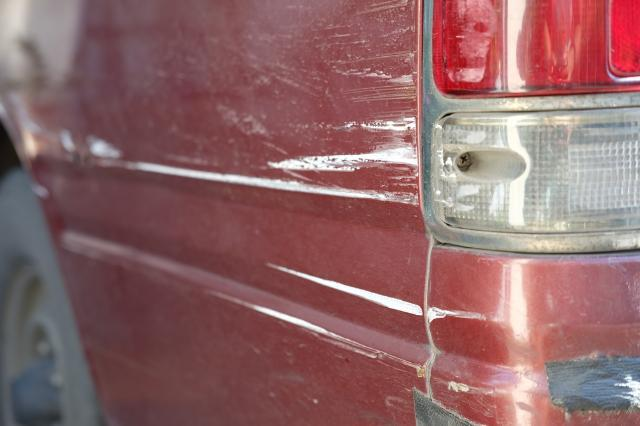scratch: (96, 0, 420, 210), (204, 289, 433, 381), (265, 263, 490, 328)
